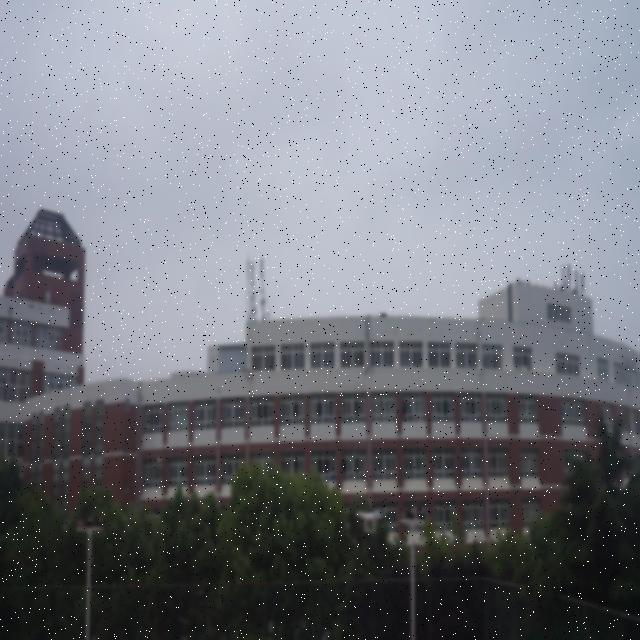UAV: (355, 511, 384, 532)
